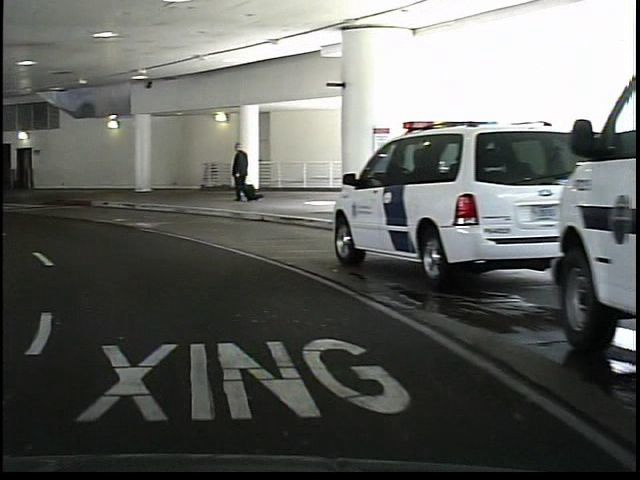person: (224, 139, 249, 202)
